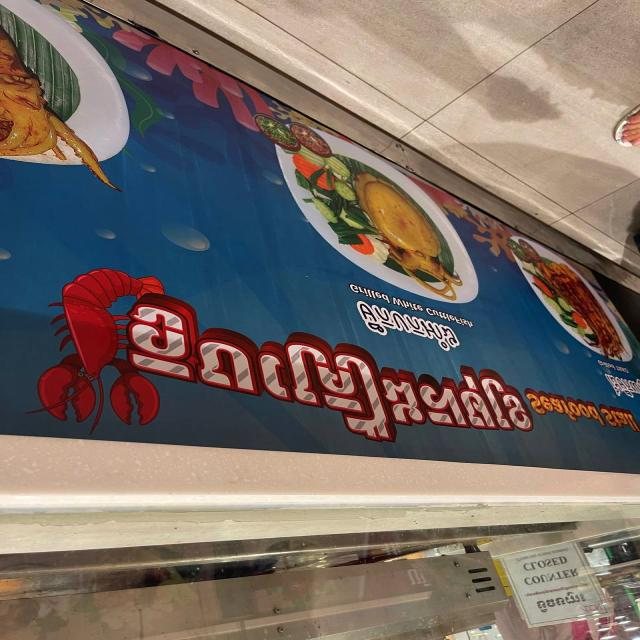Yolov11kh: (115, 286, 539, 472), (343, 294, 461, 355)
